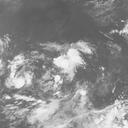cyclone: (54, 47, 88, 79)
